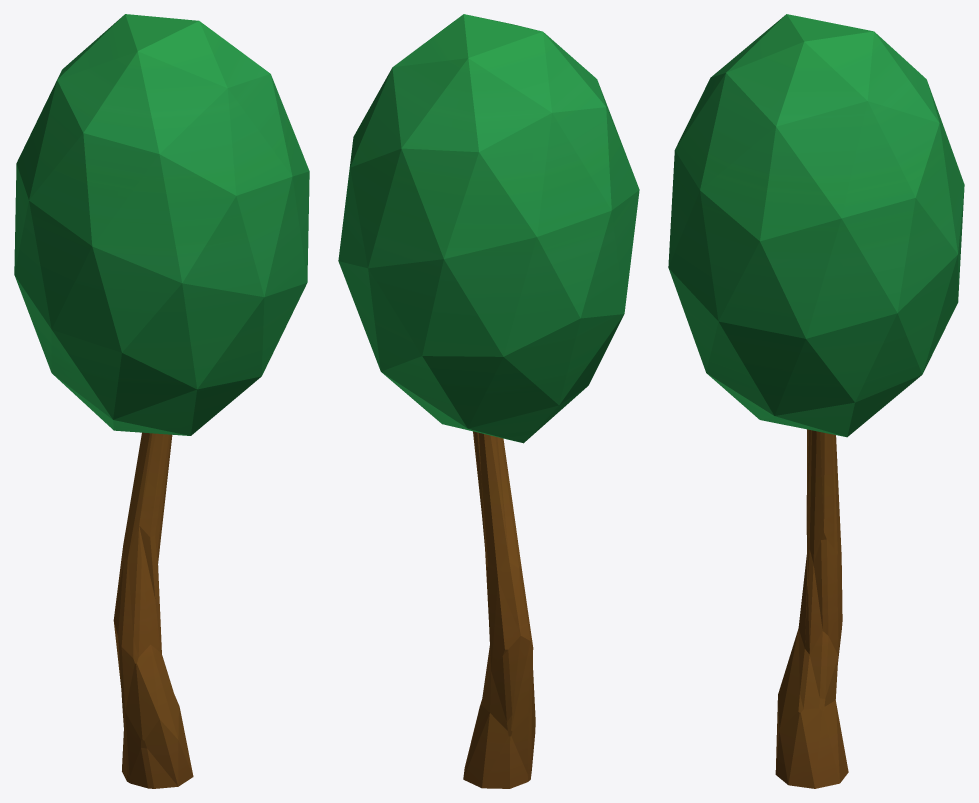
The model's file is tree_poplar.glb.
3 views of the same model, side by side, from view 1: azimuth 30°, elevation 25°; view 2: azimuth 150°, elevation 25°; view 3: azimuth 270°, elevation 25° (orthographic).
Visible parts, largest first — view 1: tree_poplar; view 2: tree_poplar; view 3: tree_poplar.
Boxes of the visible parts, x1,y1,x2,y2 form: tree_poplar: [14, 14, 309, 788]; tree_poplar: [338, 14, 639, 788]; tree_poplar: [668, 14, 964, 788].
Size of the model in its own units: 1.65 by 4.6 by 1.65.
Materials: 1 (1 with a texture image).
